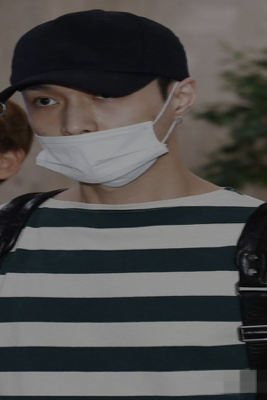mask_weared_incorrect: (24, 86, 174, 184)
